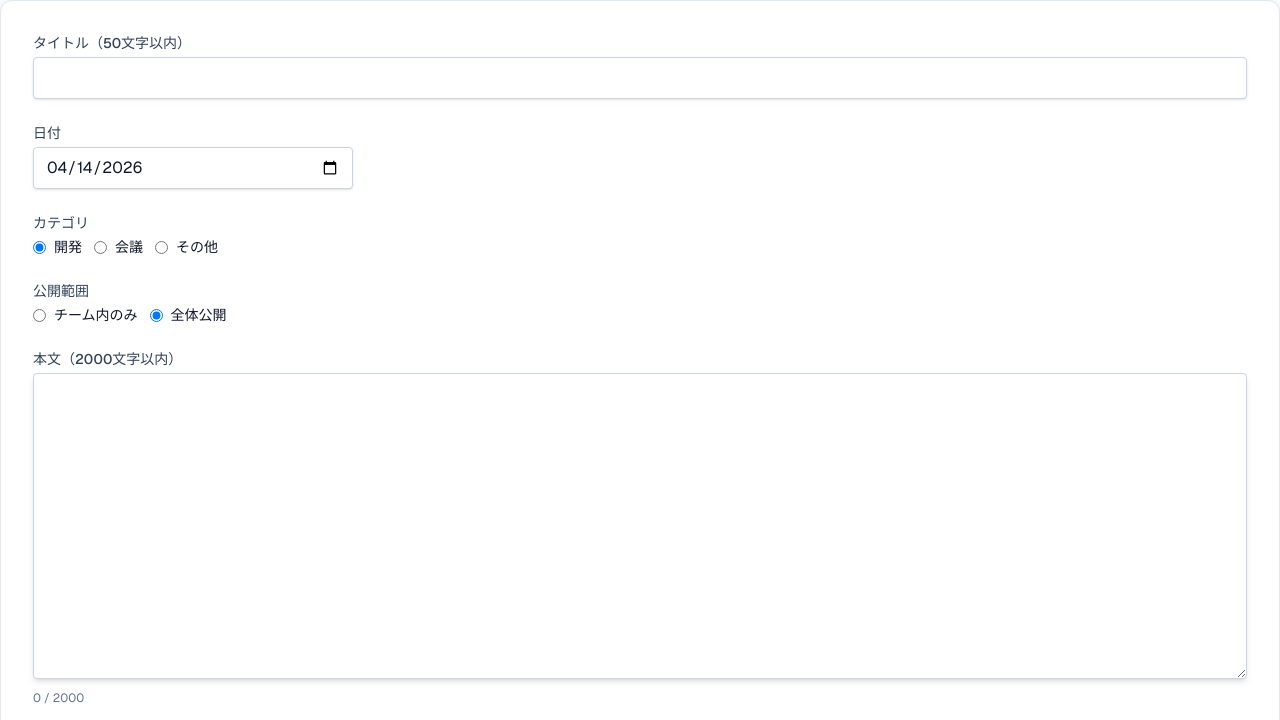
Scenario: ReportForm › 選択済み team_id が所属チーム一覧から外れた場合は team_id エラーになる
Type "タイトル" into the field labelled "タイトル（50文字以内）" at (640, 78), box [33,57,1247,99]
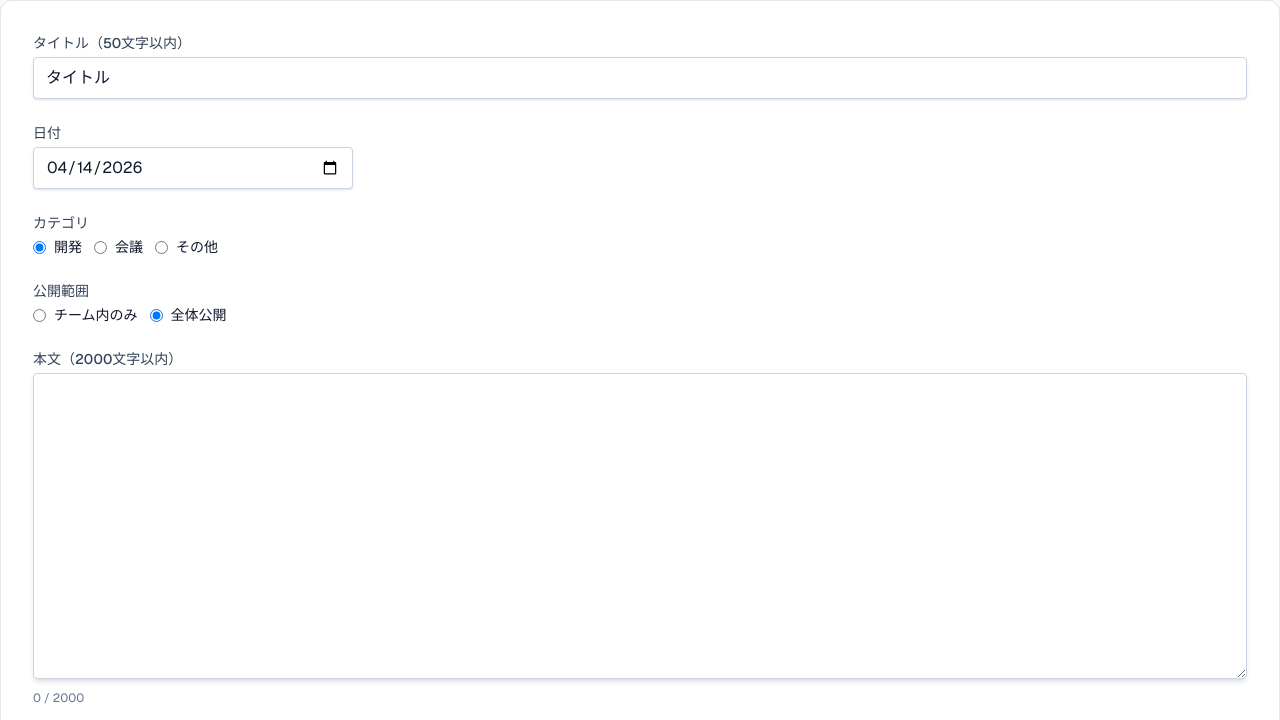
Type "本文" into the text box labelled "本文（2000文字以内）" at (640, 526), box [33,373,1247,679]
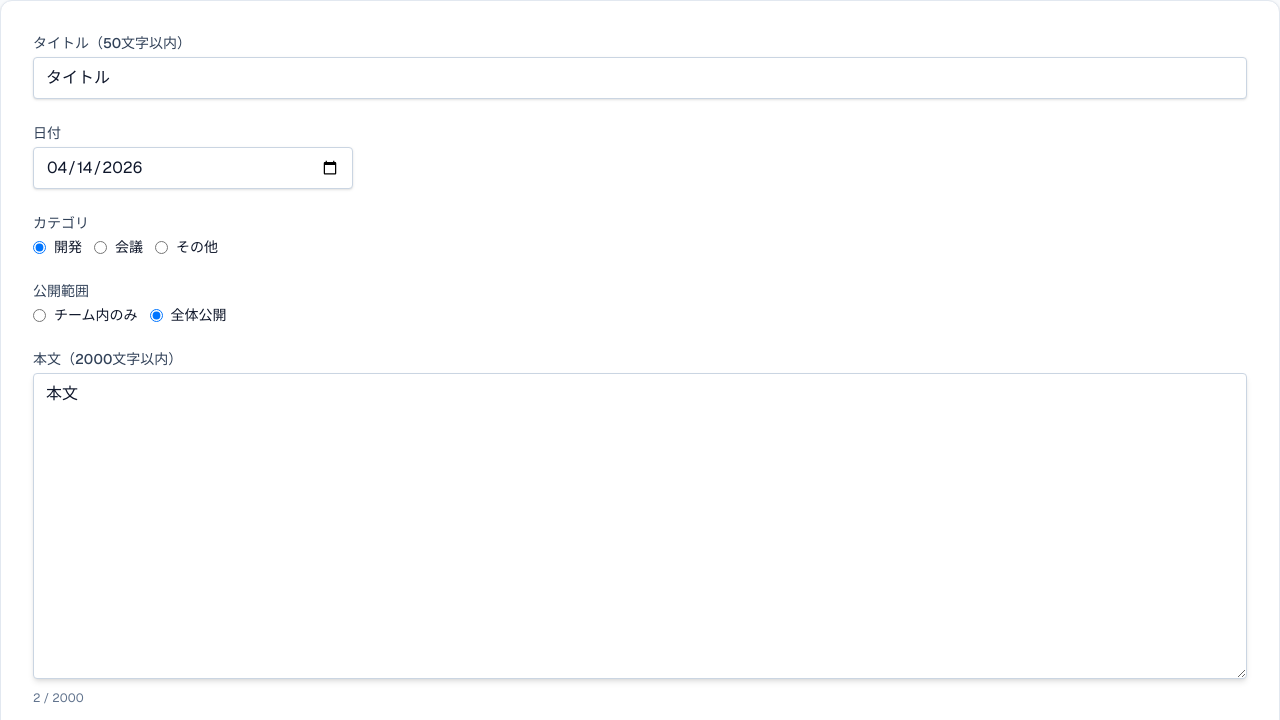
Click the radio button labelled "チーム内のみ" at (40, 315), box [33,308,46,322]
(page scrolled)
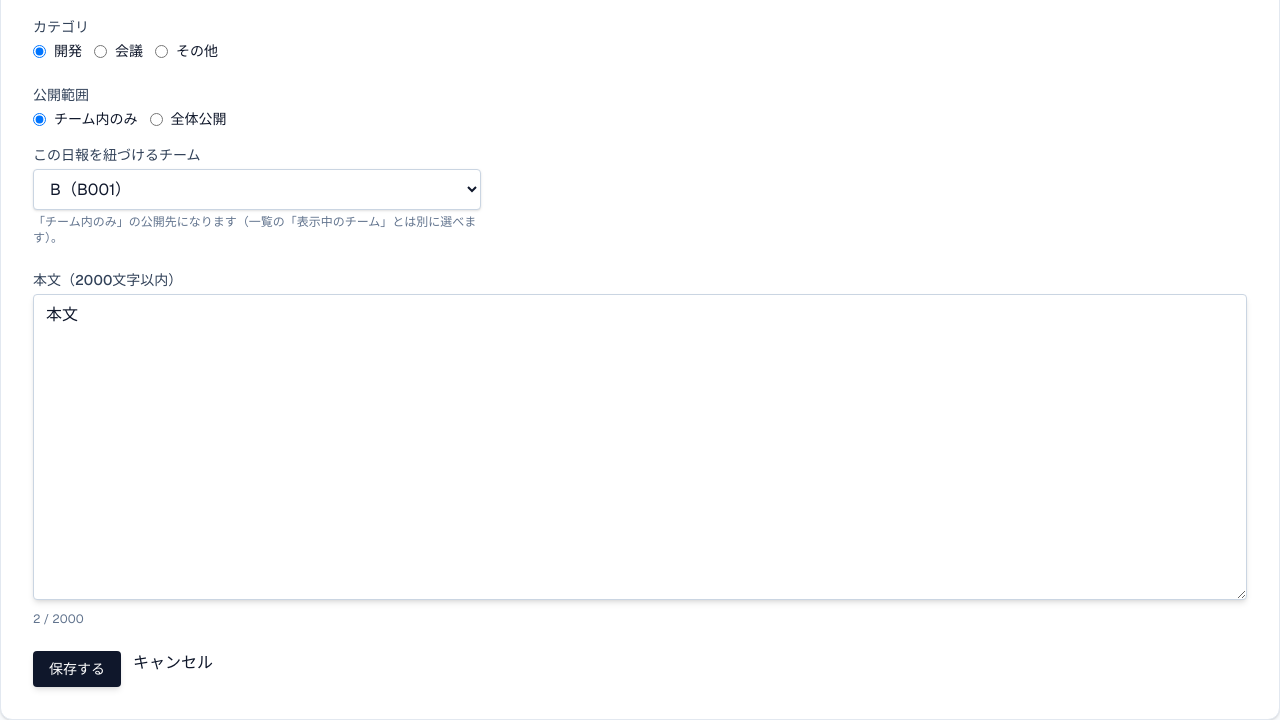
Click the button "保存する" at (77, 669), box [33,651,121,687]
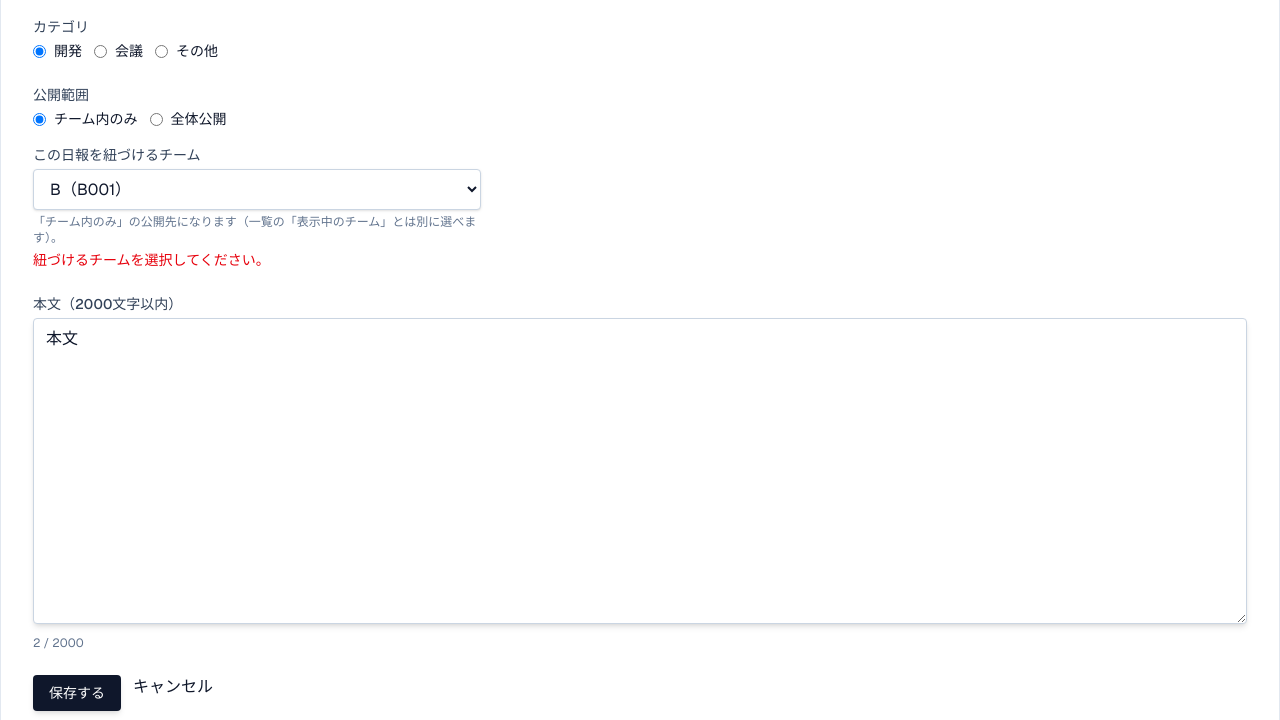
expect the text "紐づけるチームを選択してください。" is shown: met, box [33,251,270,269]
